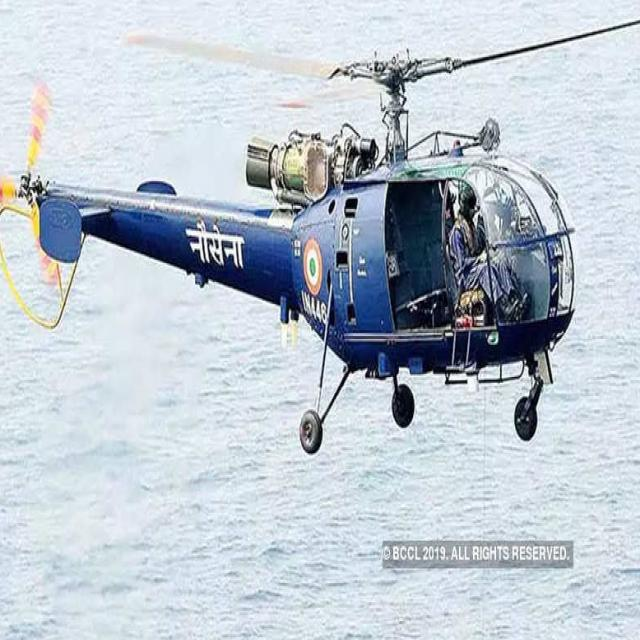helicopter: (1, 4, 613, 471)
